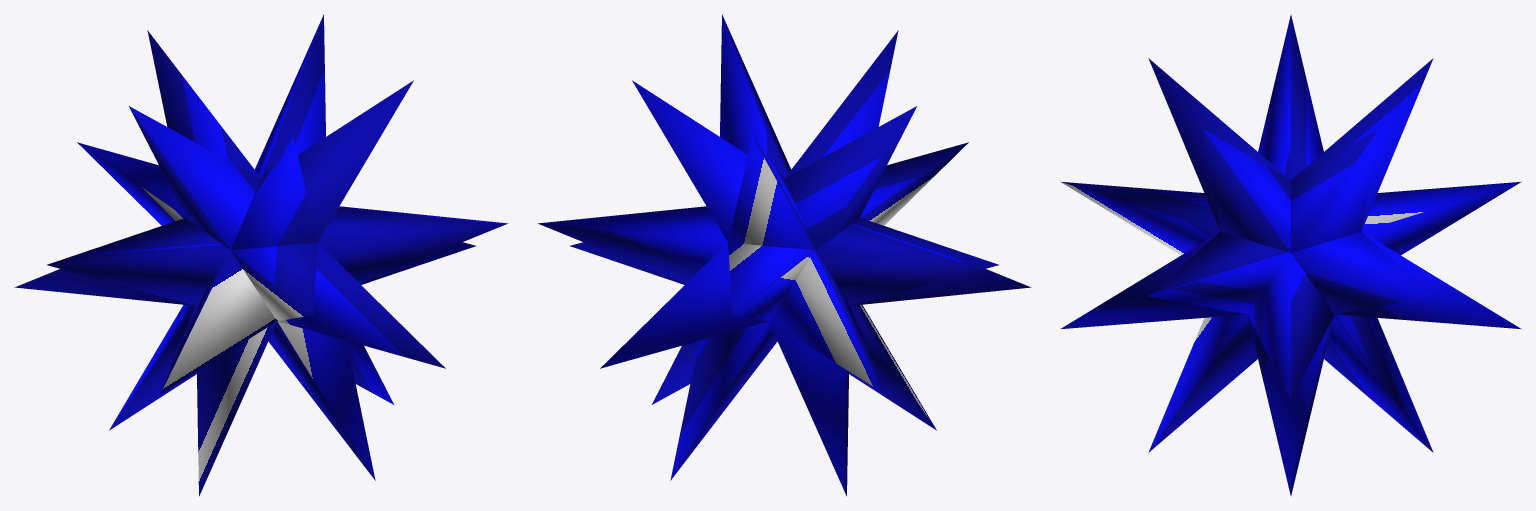
Rendered from ice_rock.obj.
3 views of the same model, side by side, from view 1: azimuth 30°, elevation 25°; view 2: azimuth 150°, elevation 25°; view 3: azimuth 270°, elevation 25° (orthographic). The views are drawn at different scales.
Parts seen in each view (by area): view 1: Icosphere; view 2: Icosphere; view 3: Icosphere.
Part boxes in pixels (left/top/right/bottom): Icosphere: left=14, top=14, right=508, bottom=496; Icosphere: left=537, top=14, right=1031, bottom=496; Icosphere: left=1060, top=15, right=1521, bottom=495.
Bounding box in the file's own units: 5.31 × 4.3 × 5.05.
Materials: 1 (1 with a texture image).
